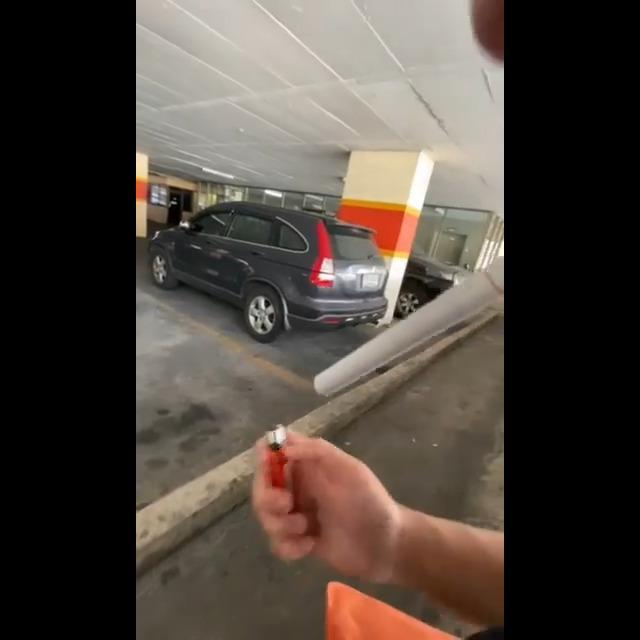rokok: (284, 246, 504, 424)
